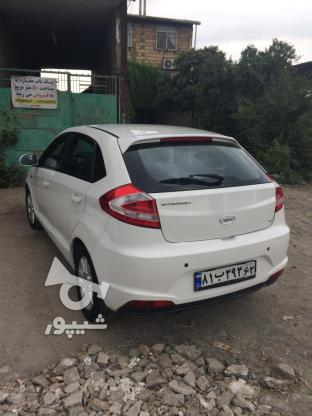car: (192, 259, 256, 291)
